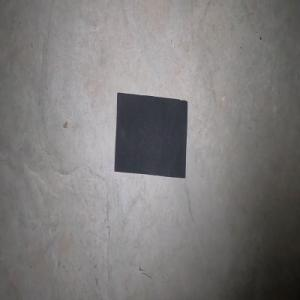PaintChip: (114, 92, 187, 178)
